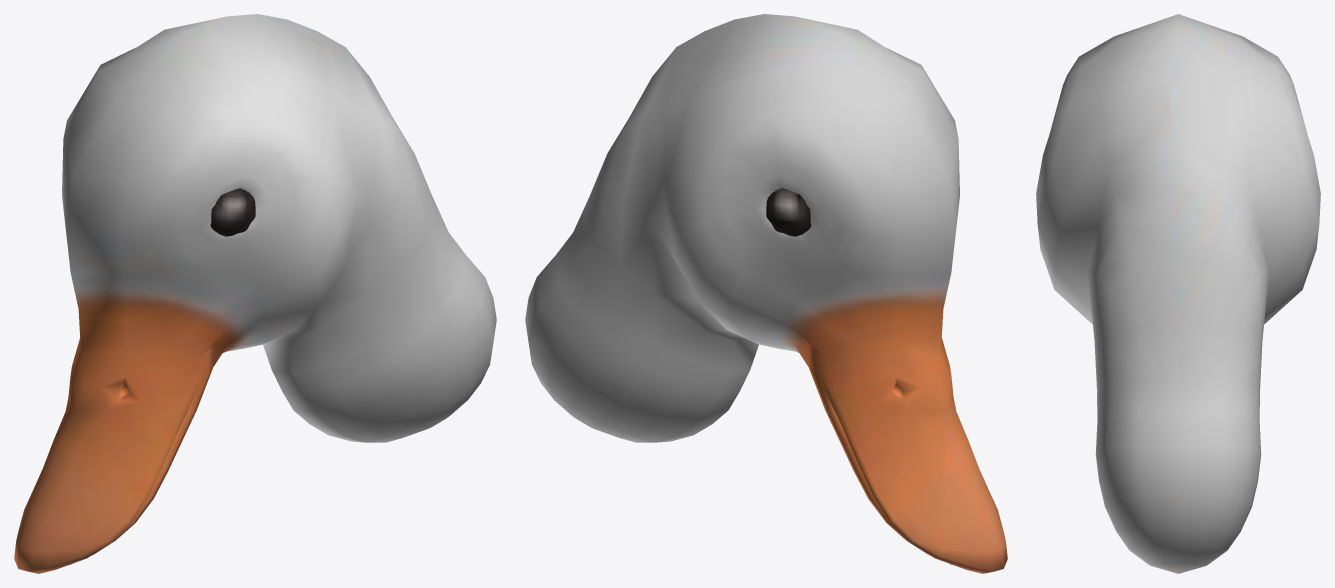
File: Duck_Head_0.FBX
3 renders of one model, left to right at view 1: azimuth 30°, elevation 25°; view 2: azimuth 150°, elevation 25°; view 3: azimuth 270°, elevation 25°, orthographic.
Visible parts, largest first — view 1: Duck_Head_0; view 2: Duck_Head_0; view 3: Duck_Head_0.
Part boxes in pixels (bbox=[...]): Duck_Head_0: bbox=[14, 14, 496, 573]; Duck_Head_0: bbox=[525, 14, 1007, 573]; Duck_Head_0: bbox=[1036, 14, 1320, 573].
Bounding box in the file's own units: 1.43 × 1.5 × 0.7693.
